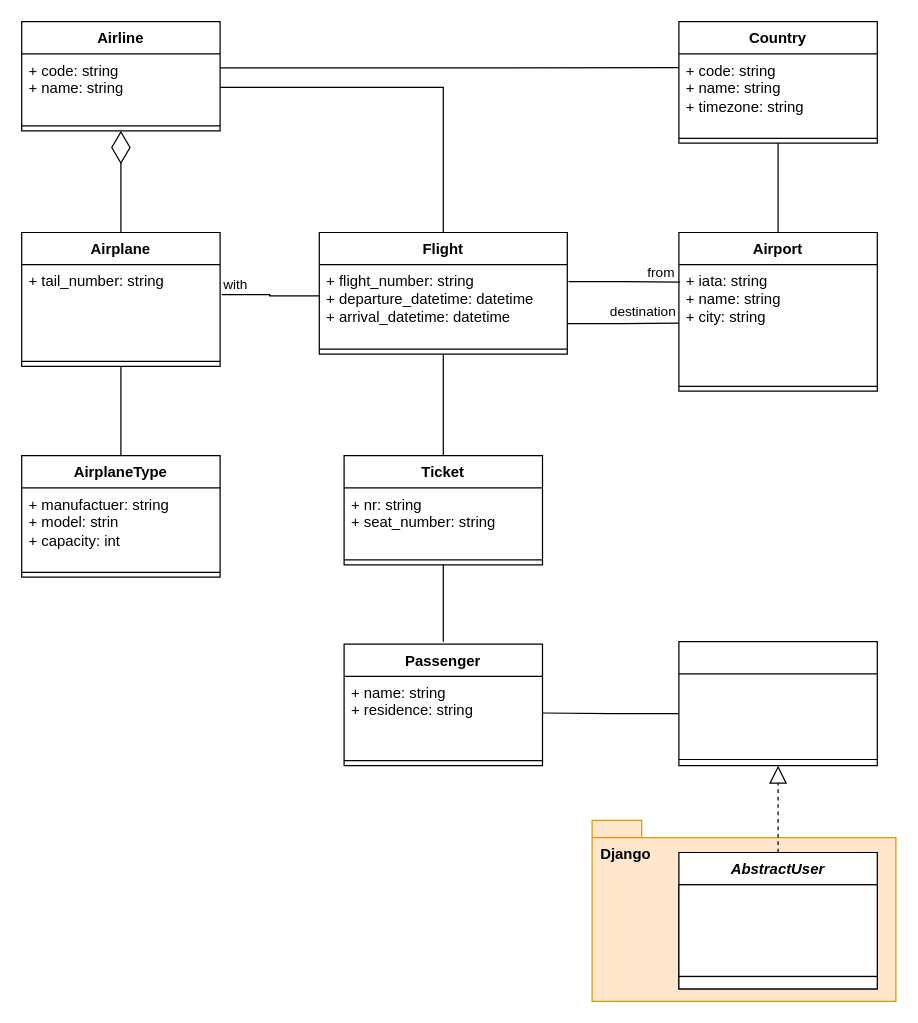
Image size: 918x1023. Some labels were removed from this diagram. The shapes that lost their labels are listed below. From the top down, each one's centre as x and y in pixels, then its label:
At (777,703): "CustomUser".
At (777,930): "username: string first_name: string last_name: string email: string".
